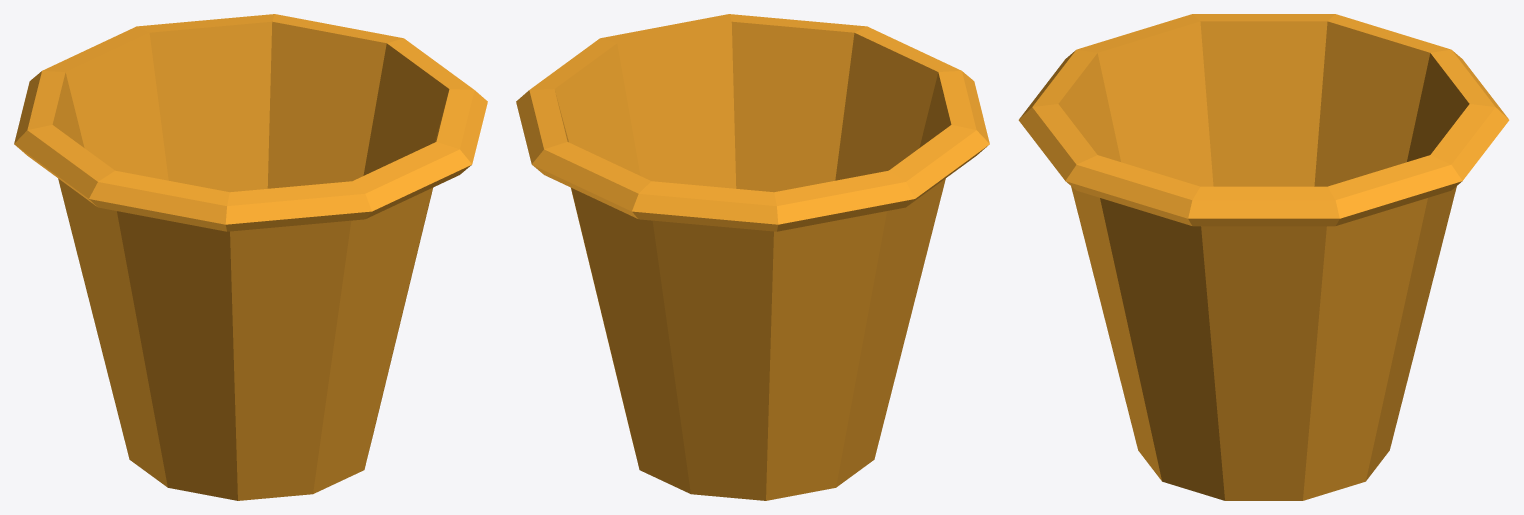
File: SM_Pot_Clay_Big_B.fbx
The picture shows the model from 3 angles, left to right: view 1: azimuth 30°, elevation 25°; view 2: azimuth 150°, elevation 25°; view 3: azimuth 270°, elevation 25°; orthographic projection.
Visible parts, largest first — view 1: pot-clay-big-b; view 2: pot-clay-big-b; view 3: pot-clay-big-b.
Boxes of the visible parts, x1,y1,x2,y2 form: pot-clay-big-b: [14, 14, 487, 500]; pot-clay-big-b: [516, 14, 989, 500]; pot-clay-big-b: [1018, 14, 1509, 500].
Size of the model in its own units: 0.3181 by 0.2604 by 0.3345.
